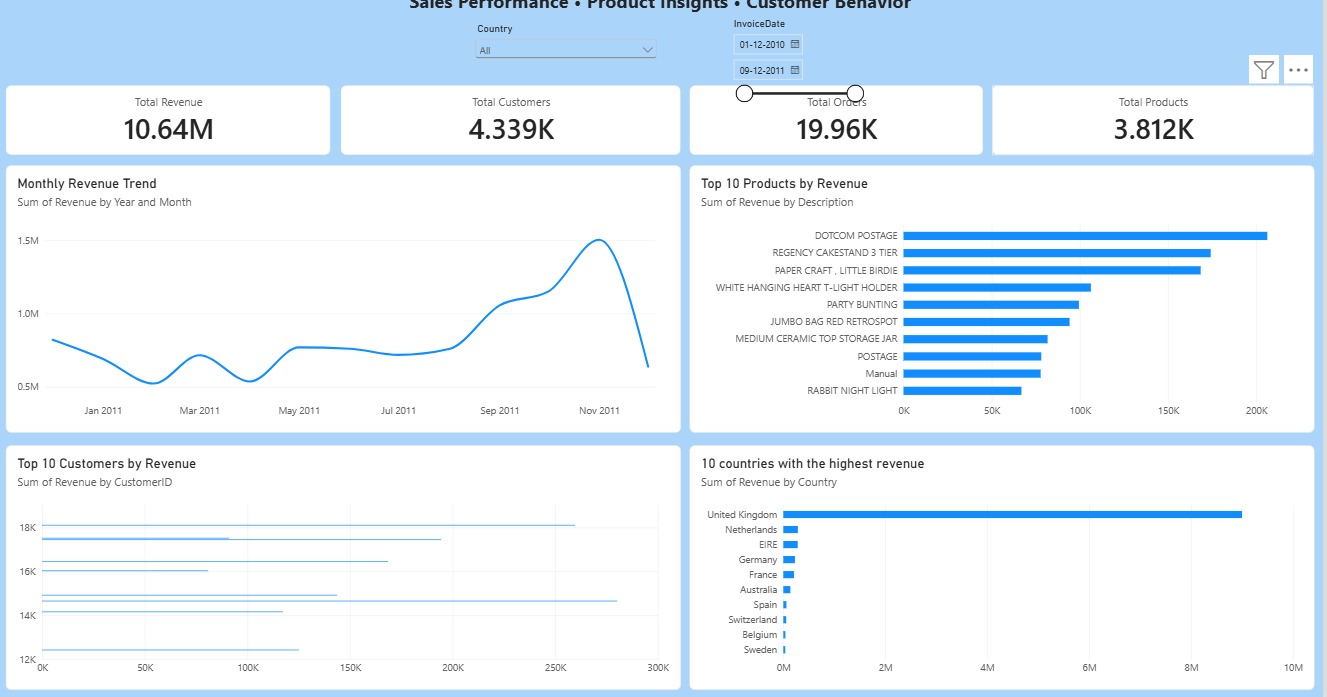

The dashboard page shown, as its layout file describes it:
{"tool":"powerbi","page":{"name":"Page 1","canvas":[1920,1080],"ordinal":0},"visuals":[{"type":"cardVisual","title":"Total Revenue","fields":{"Data":["Sum(ecommerce_analytics online_retail.Revenue)"]},"box":[12.7,190,470.5,101.3],"z":1},{"type":"cardVisual","fields":{"Data":["Count(ecommerce_analytics online_retail.InvoiceNo)"]},"box":[1002.6,190,425.3,101.3],"z":2},{"type":"cardVisual","fields":{"Data":["Count(ecommerce_analytics online_retail.CustomerID)"]},"box":[497.7,190,492.2,101.3],"z":3},{"type":"cardVisual","fields":{"Data":["Count(ecommerce_analytics online_retail.StockCode)"]},"box":[1440.5,190,466.9,101.3],"z":4},{"type":"lineChart","title":"Monthly Revenue Trend","fields":{"Category":["ecommerce_analytics online_retail.InvoiceDate.Variation.Date Hierarchy.Year","ecommerce_analytics online_retail.InvoiceDate.Variation.Date Hierarchy.Month"],"Y":["Sum(ecommerce_analytics online_retail.Revenue)"]},"box":[12.7,305.8,977.2,387.3],"z":5},{"type":"clusteredBarChart","title":"10 countries with the highest revenue","fields":{"Category":["ecommerce_analytics online_retail.Country"],"Y":["Sum(ecommerce_analytics online_retail.Revenue)"]},"box":[1002.6,711.2,904.8,354.7],"z":6},{"type":"clusteredBarChart","title":"Top 10 Products by Revenue","fields":{"Category":["ecommerce_analytics online_retail.Description"],"Y":["Sum(ecommerce_analytics online_retail.Revenue)"]},"box":[1002.6,305.8,904.8,387.3],"z":7},{"type":"clusteredBarChart","title":"Top 10 Customers by Revenue","fields":{"Category":["ecommerce_analytics online_retail.CustomerID"],"Y":["Sum(ecommerce_analytics online_retail.Revenue)"]},"box":[12.7,711.2,977.2,354.7],"z":8},{"type":"slicer","fields":{"Values":["ecommerce_analytics online_retail.Country"]},"box":[688,100,272,246],"z":9},{"type":"slicer","fields":{"Values":["ecommerce_analytics online_retail.InvoiceDate"]},"box":[1058,92,200,506],"z":10},{"type":"textbox","box":[0,14,1920,78],"z":14}]}

Visuals, with their boxes on the page's 1920x1080 design canvas (x1, y1, x2, y2). These are canvas units, not pixel positions in the 1327x697 screenshot, which may show the page scaled, cropped or inside an application window:
"Total Revenue" cardVisual: 13/190/483/291
cardVisual - Count(ecommerce_analytics online_retail.InvoiceNo): 1003/190/1428/291
cardVisual - Count(ecommerce_analytics online_retail.CustomerID): 498/190/990/291
cardVisual - Count(ecommerce_analytics online_retail.StockCode): 1440/190/1907/291
"Monthly Revenue Trend" lineChart: 13/306/990/693
"10 countries with the highest revenue" clusteredBarChart: 1003/711/1907/1066
"Top 10 Products by Revenue" clusteredBarChart: 1003/306/1907/693
"Top 10 Customers by Revenue" clusteredBarChart: 13/711/990/1066
slicer - ecommerce_analytics online_retail.Country: 688/100/960/346
slicer - ecommerce_analytics online_retail.InvoiceDate: 1058/92/1258/598
textbox: 0/14/1920/92
